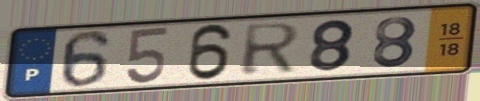5: (124, 25, 171, 85)
6: (59, 29, 114, 90), (185, 23, 234, 83)
8: (307, 18, 357, 74), (371, 14, 420, 69)
R: (238, 21, 304, 78)
